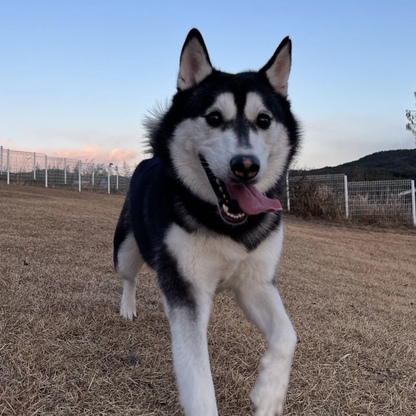husky: (103, 20, 314, 416)
